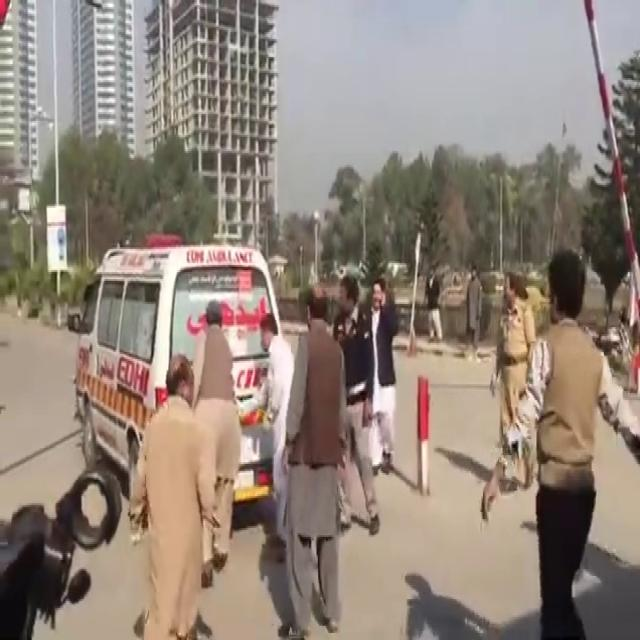ambulance: (72, 232, 318, 505)
